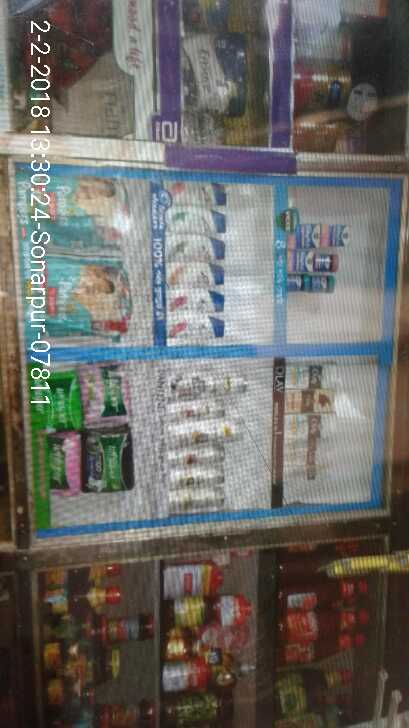vicks: (287, 220, 360, 301)
